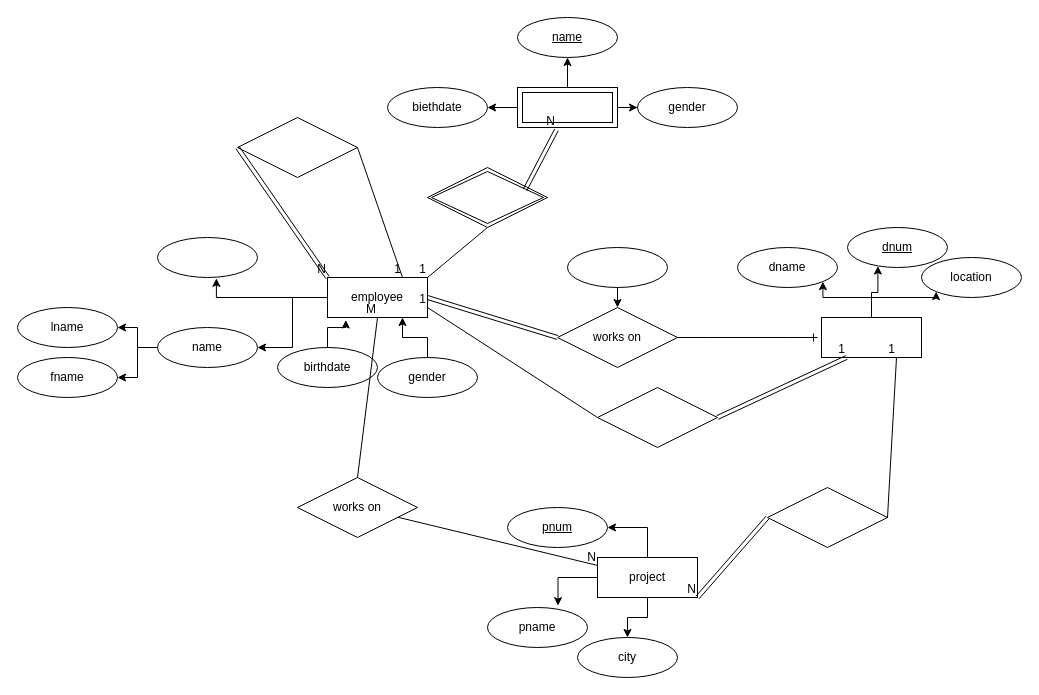
This 1039x695 diagram has some shape labels left out. The centre of each missing label's shape, as x and y in pixels:
controls: the point at 827,517
dep: the point at 871,337
dependent: the point at 567,107
has_dependent: the point at 487,197
hiringdate: the point at 617,267
manage: the point at 657,417
ssn: the point at 207,257
supervises: the point at 297,147
